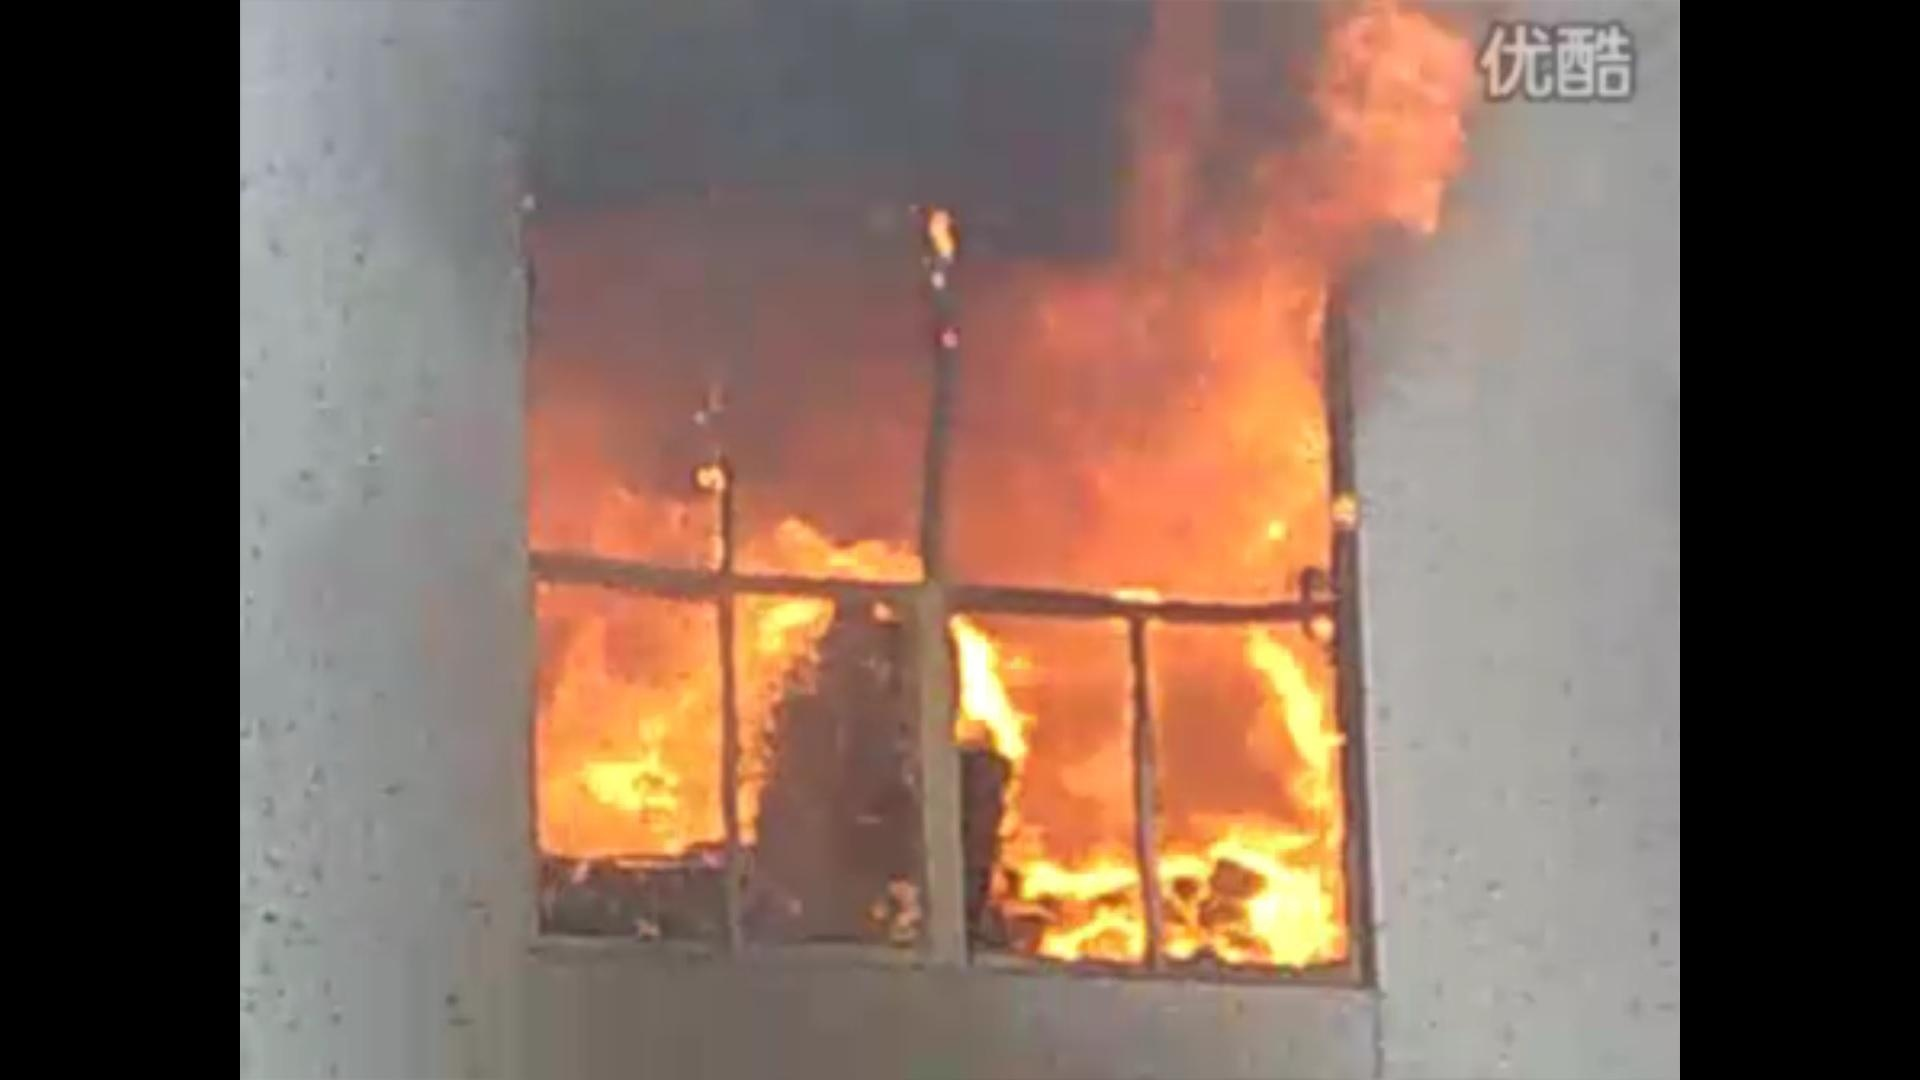fire: (517, 131, 1387, 984)
